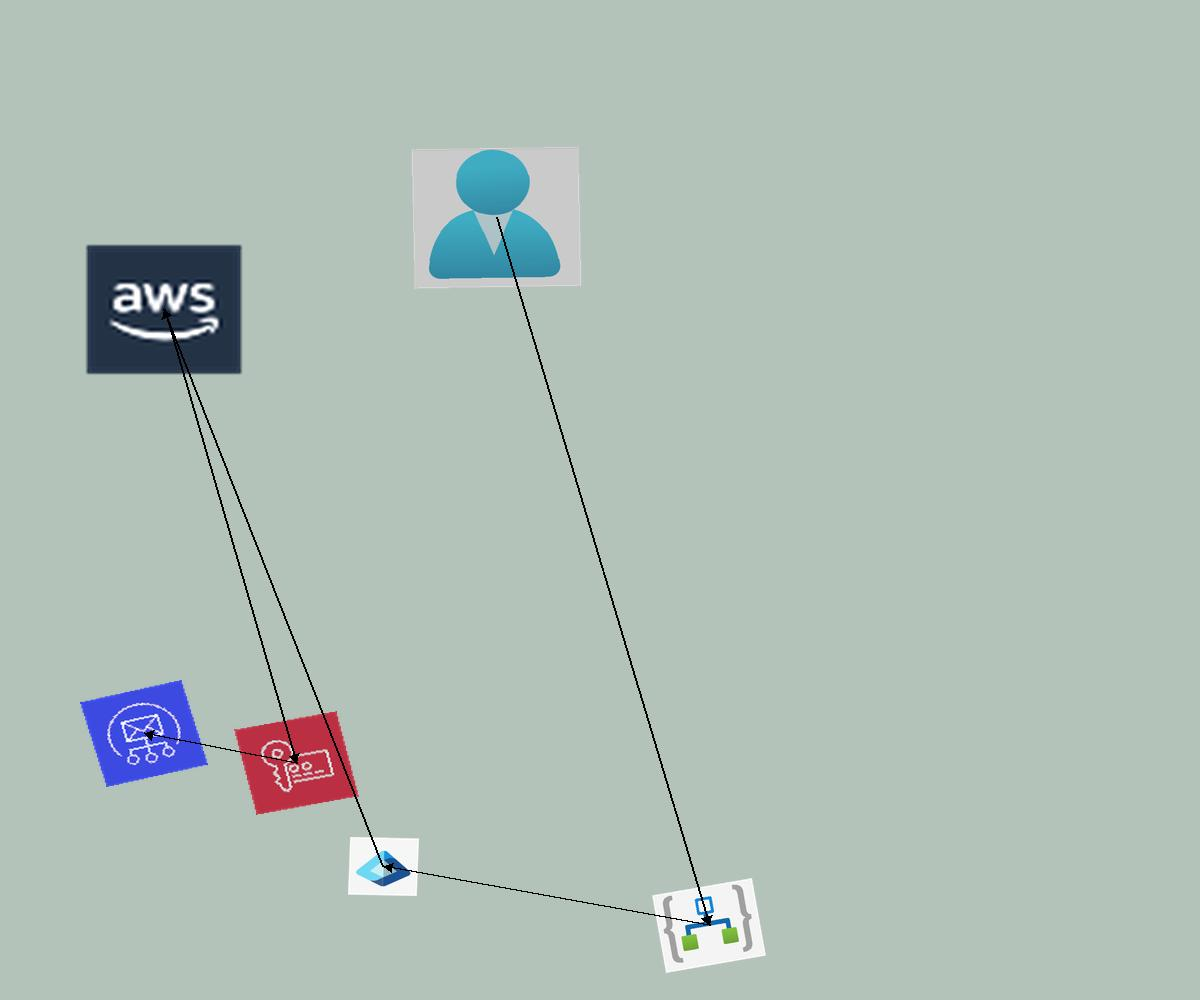AWS-Cloud-logo: (83, 242, 245, 377)
AWS-Key-Management-Service: (234, 711, 359, 815)
AWS-Simple-Email-Service: (80, 680, 208, 787)
Azure_integration-204-Logic-Apps: (652, 878, 766, 973)
Azure_microsoft_entra: (348, 837, 419, 896)
Azure_users: (411, 146, 582, 289)
